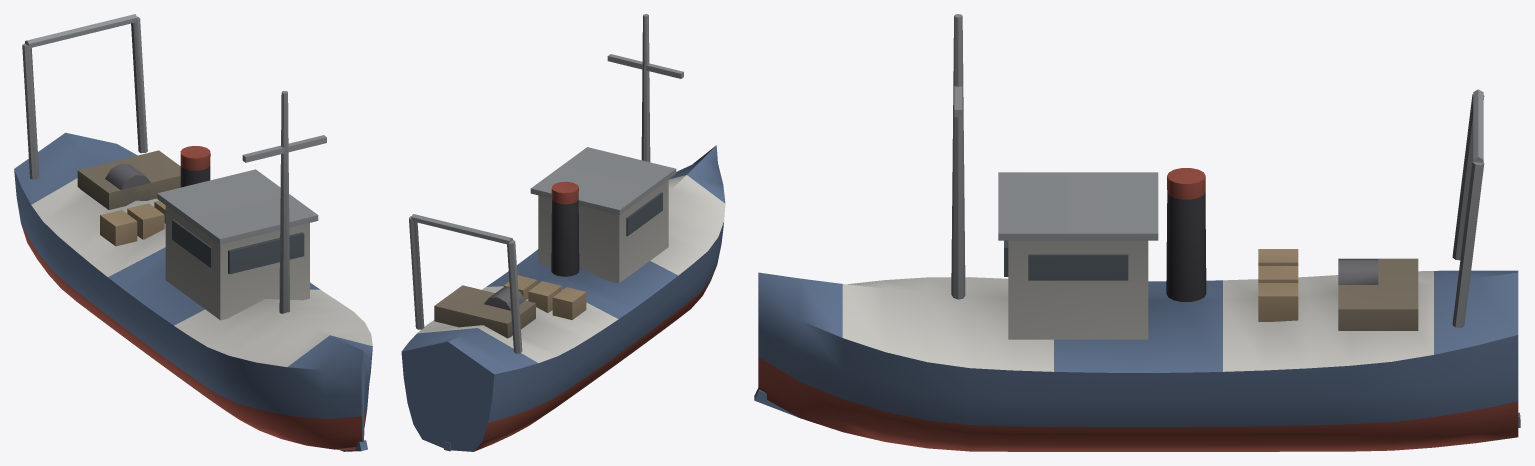
File: trawler.glb
3 renders of one model, left to right at view 1: azimuth 30°, elevation 25°; view 2: azimuth 150°, elevation 25°; view 3: azimuth 270°, elevation 25°, orthographic. The views are drawn at different scales.
Visible parts, largest first — view 1: Body; view 2: Body; view 3: Body.
Part boxes in pixels (box(x1,y1,x2,y2)): Body: box(14, 14, 372, 451); Body: box(401, 14, 725, 451); Body: box(754, 14, 1520, 451).
Bounding box in the file's own units: 0.5415 × 1.15 × 1.92.
